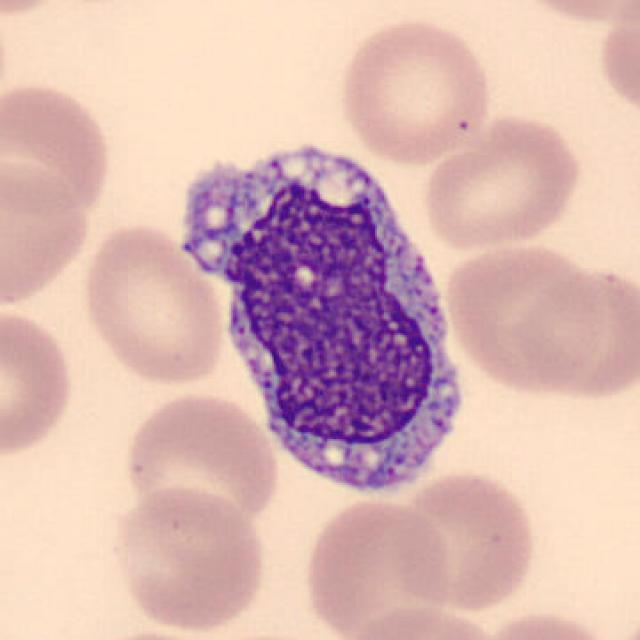Monocyte: (190, 123, 475, 515)
RBC: (438, 238, 612, 397), (78, 218, 231, 390), (107, 481, 272, 635), (334, 14, 494, 168), (119, 388, 283, 538), (416, 109, 587, 252), (384, 467, 540, 614), (300, 494, 452, 636), (512, 259, 638, 406), (0, 77, 117, 220), (0, 155, 94, 312), (0, 303, 78, 464), (336, 601, 505, 640), (594, 2, 638, 123), (472, 606, 622, 640), (506, 0, 640, 26), (0, 0, 76, 19)
